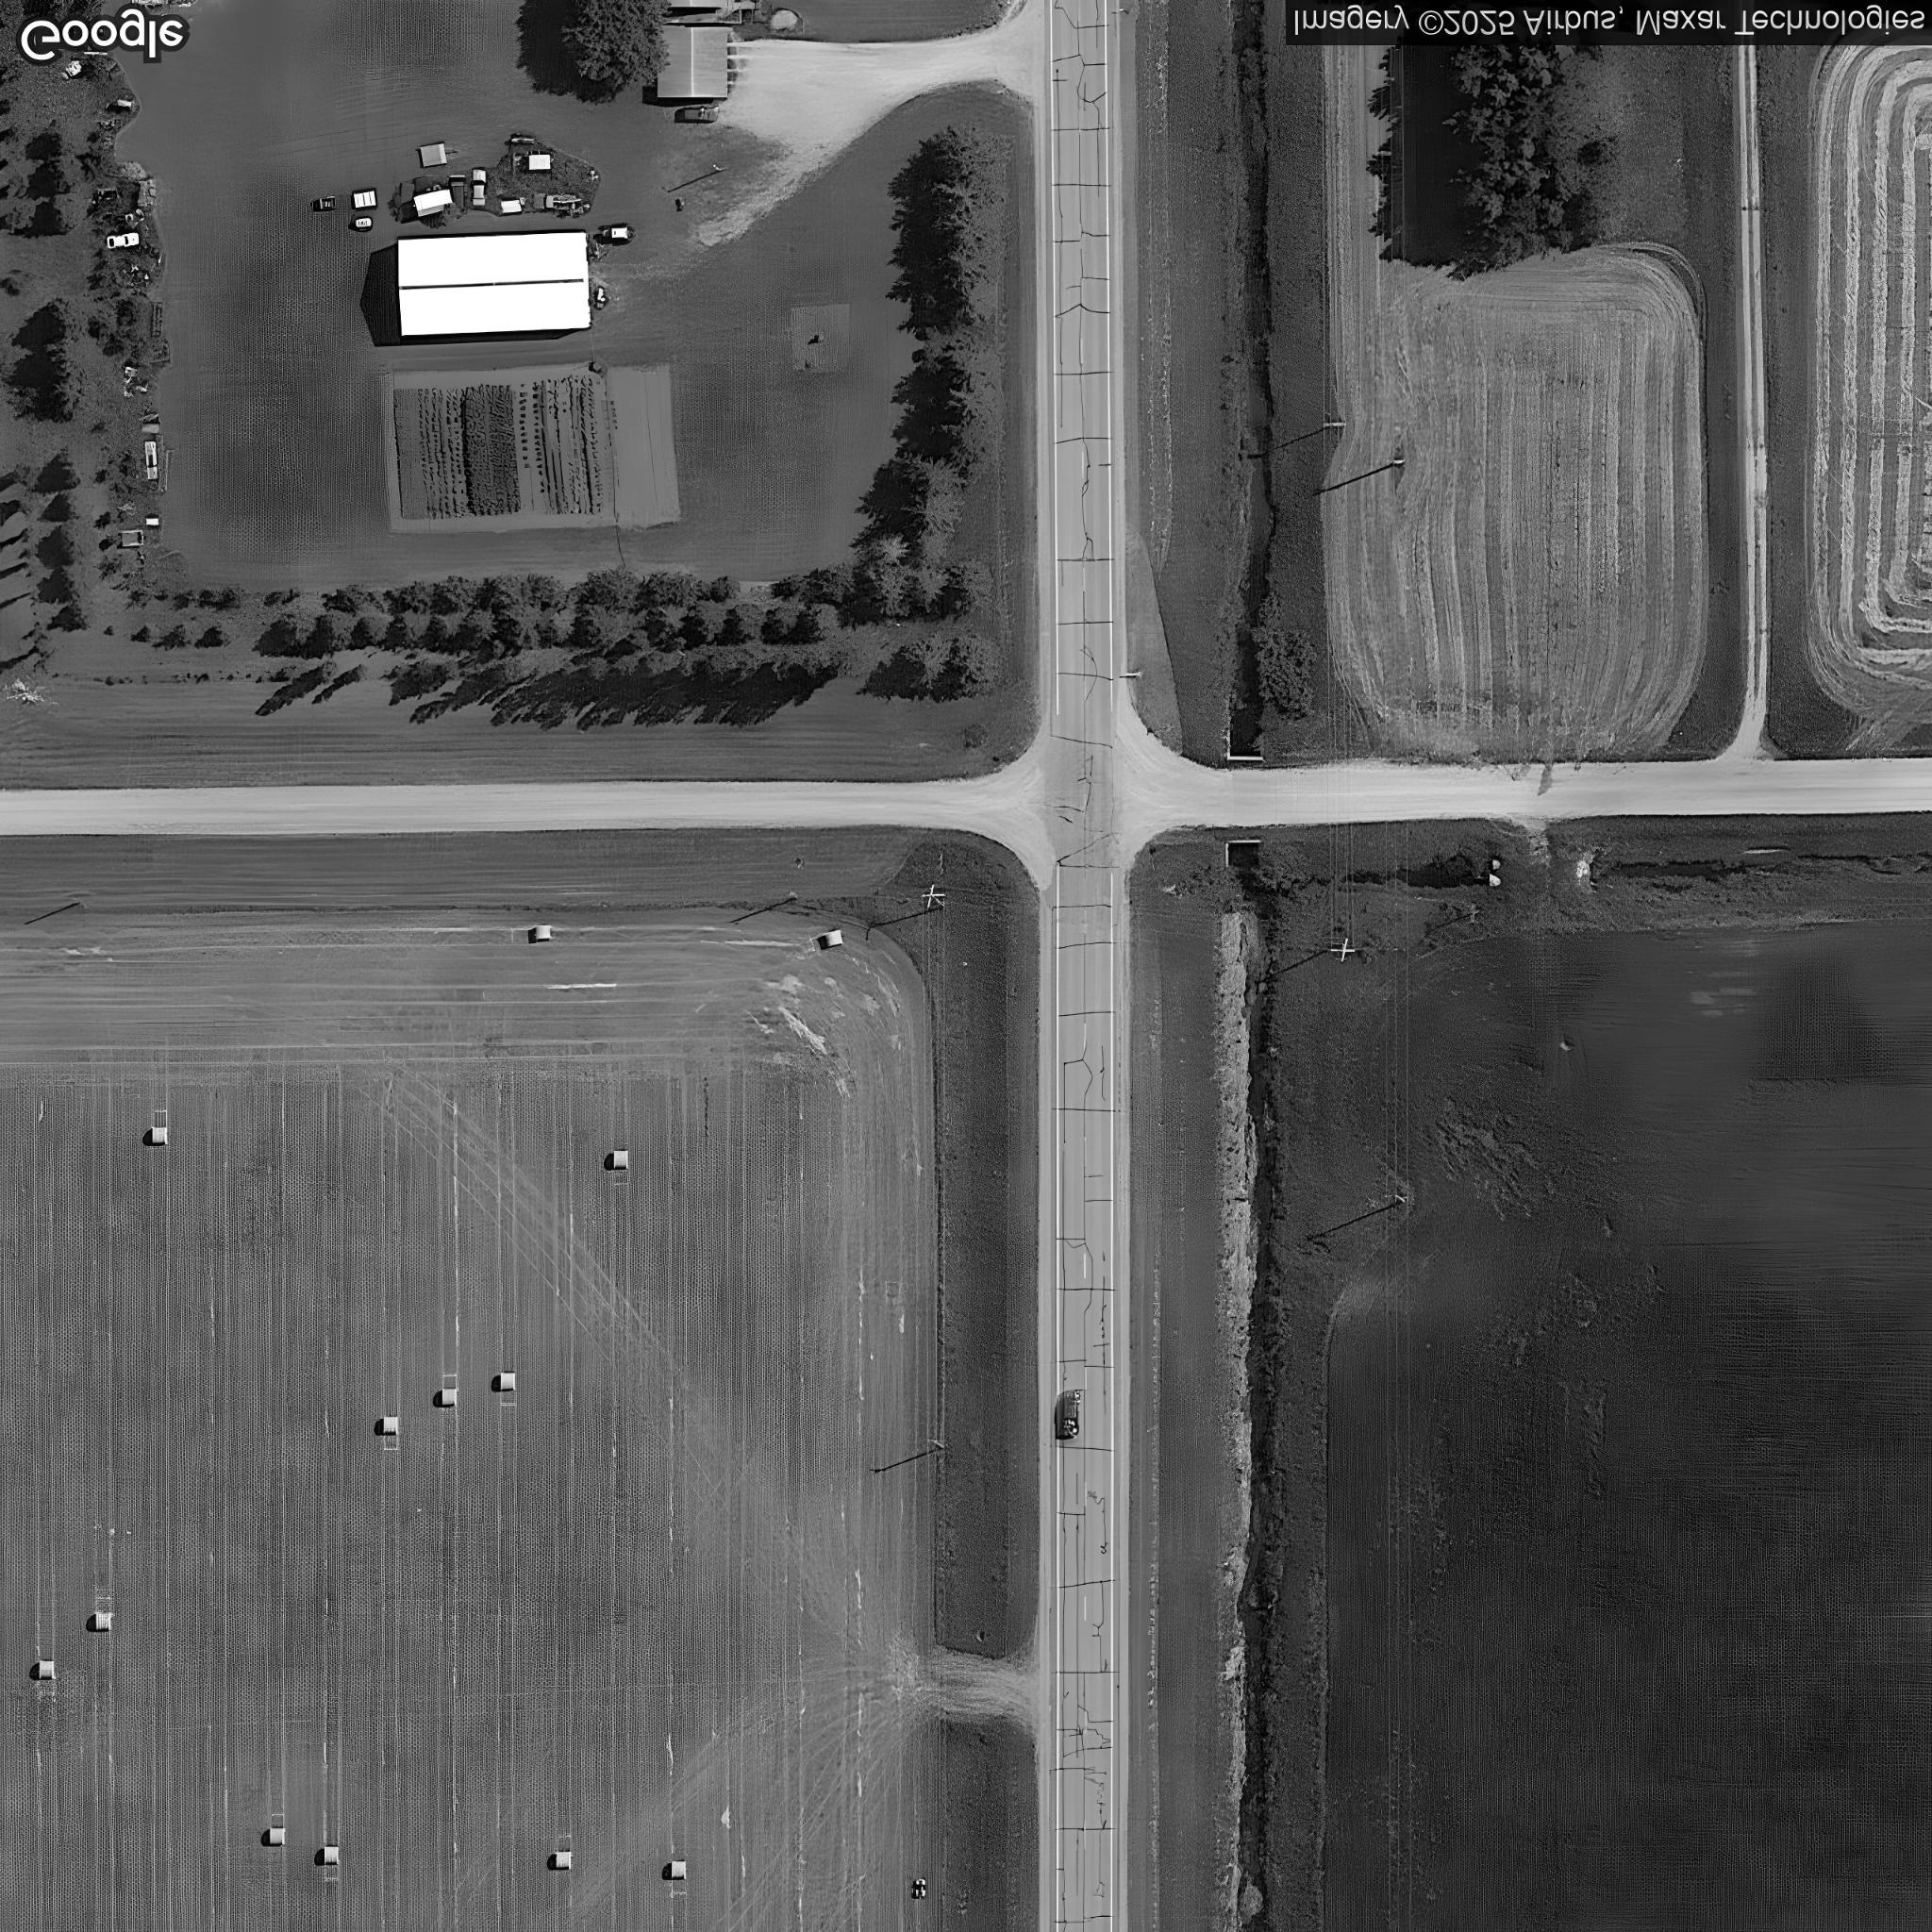House: (656, 2, 736, 96)
Other: (398, 230, 591, 334)
